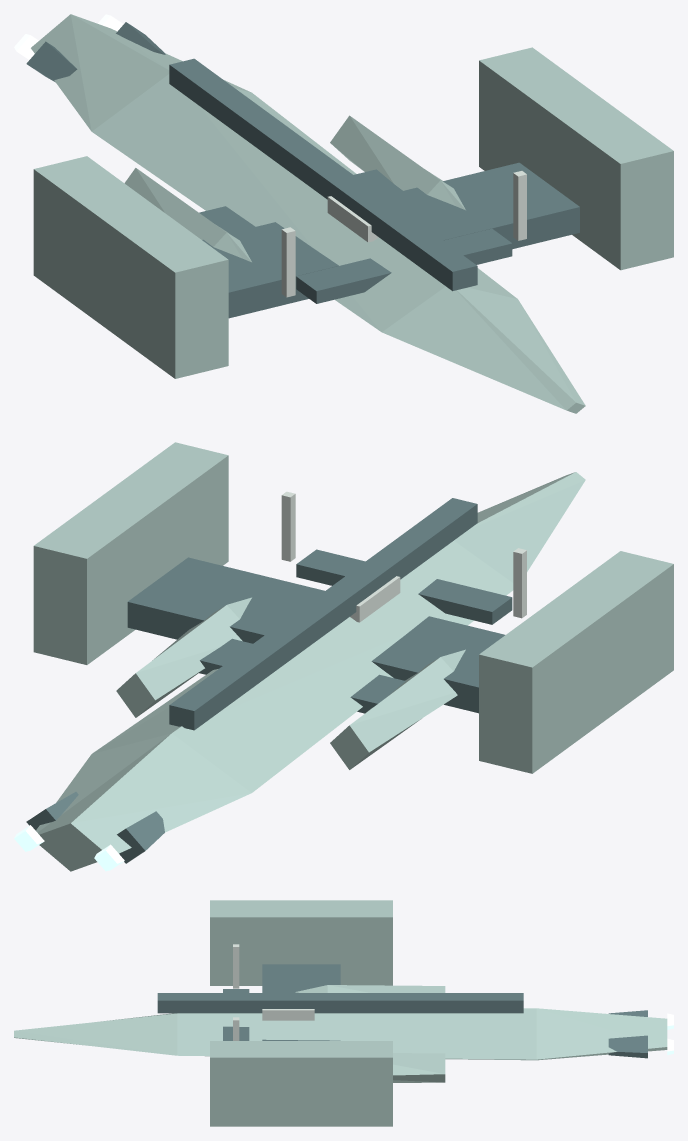
The picture shows the model from 3 angles, top to bottom: view 1: azimuth 30°, elevation 25°; view 2: azimuth 150°, elevation 25°; view 3: azimuth 270°, elevation 25°; orthographic projection. The views are drawn at different scales.
Size of the model in its own units: 6.61 by 1.59 by 11.72.
